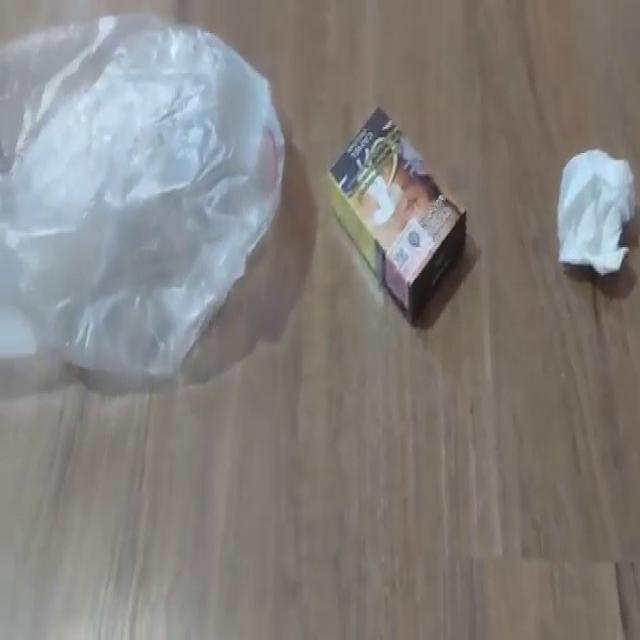Anorganik: (1, 11, 286, 392)
Organik: (326, 101, 469, 336), (557, 143, 636, 285)
